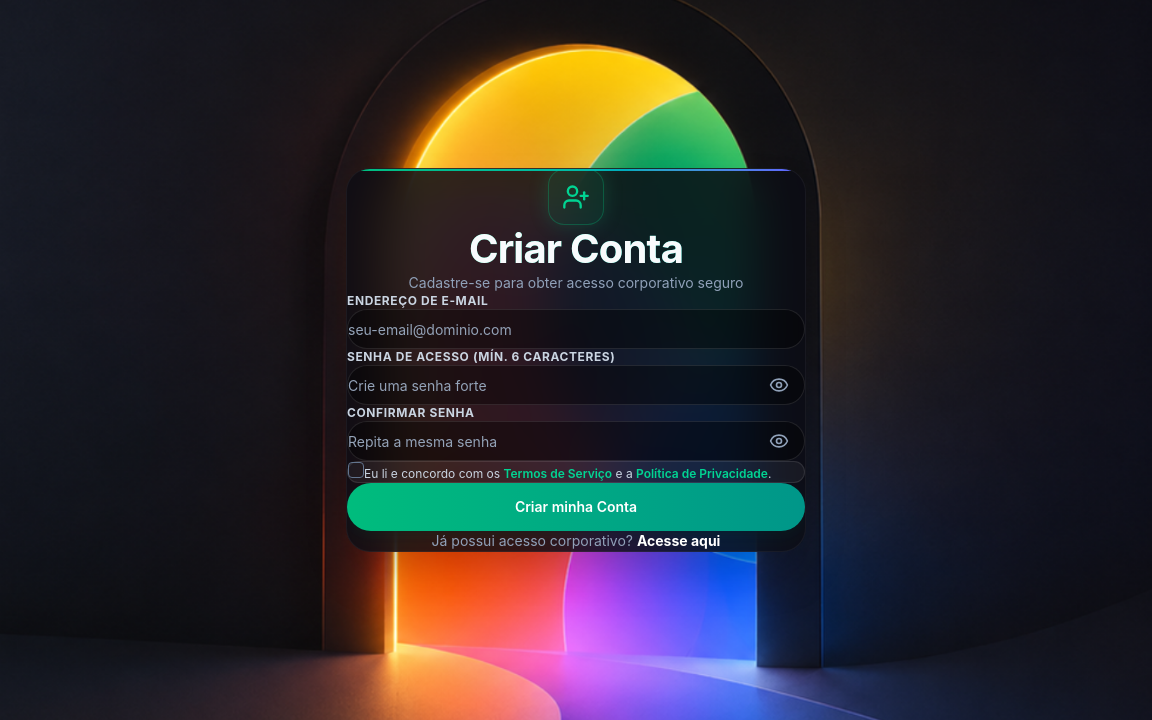
Scenario: Autenticação e Registro › Tela de Cadastro › deve exibir erros de validação ao enviar formulário vazio
Click the button "Criar minha Conta".
click(576, 507)  # box x1=347 y1=483 x2=805 y2=531
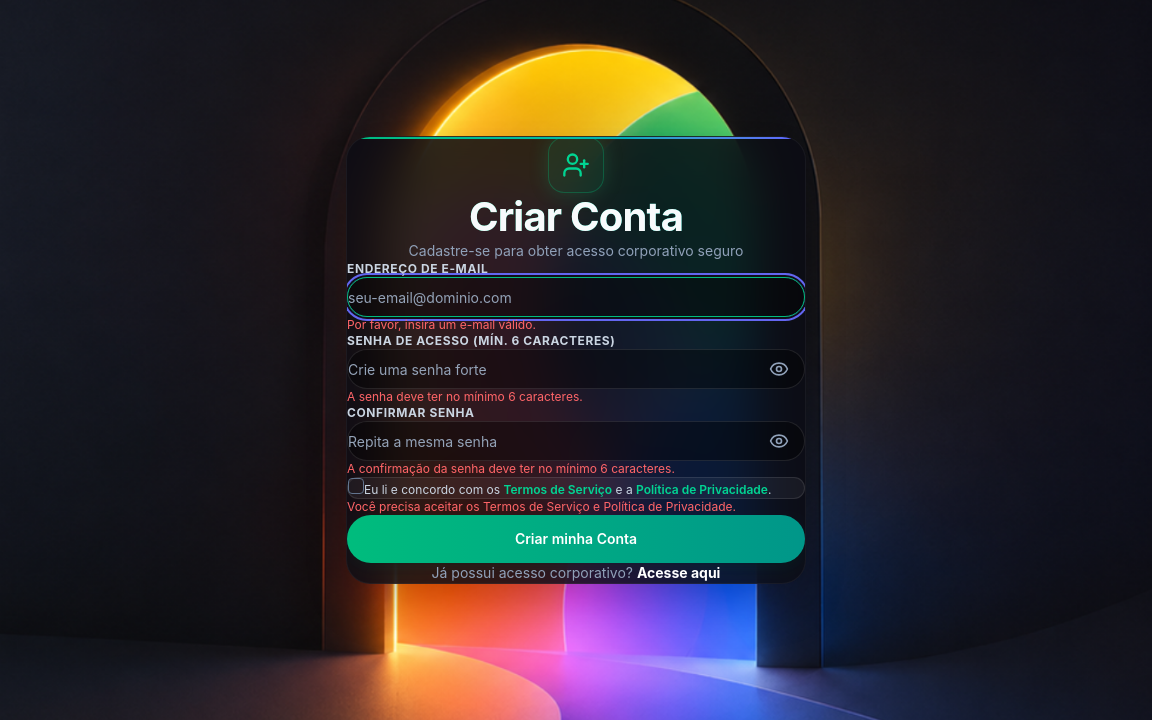
Result: the text "Por favor, insira um e-mail válido." is shown at x1=347 y1=317 x2=536 y2=332
Result: the text "A senha deve ter no mínimo 6 caracteres." is shown at x1=347 y1=389 x2=583 y2=404
Result: the text "Você precisa aceitar os Termos de Serviço e Política de Privacidade." is shown at x1=347 y1=499 x2=736 y2=514
